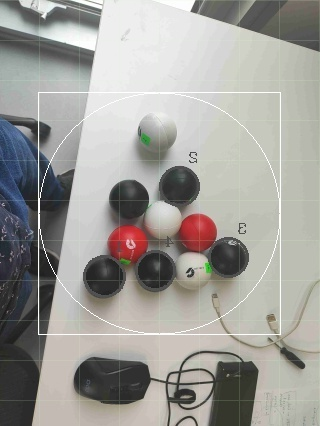Pelota blanca: (165, 347, 222, 408), (279, 278, 320, 355), (138, 110, 177, 152), (143, 201, 183, 240), (175, 252, 214, 291), (173, 414, 201, 425)
Pelota negra: (74, 355, 153, 405), (82, 254, 127, 299), (207, 236, 252, 280), (135, 249, 177, 294), (159, 164, 201, 208), (109, 177, 151, 219)
Pelota roja: (106, 222, 151, 264), (178, 212, 220, 251)
